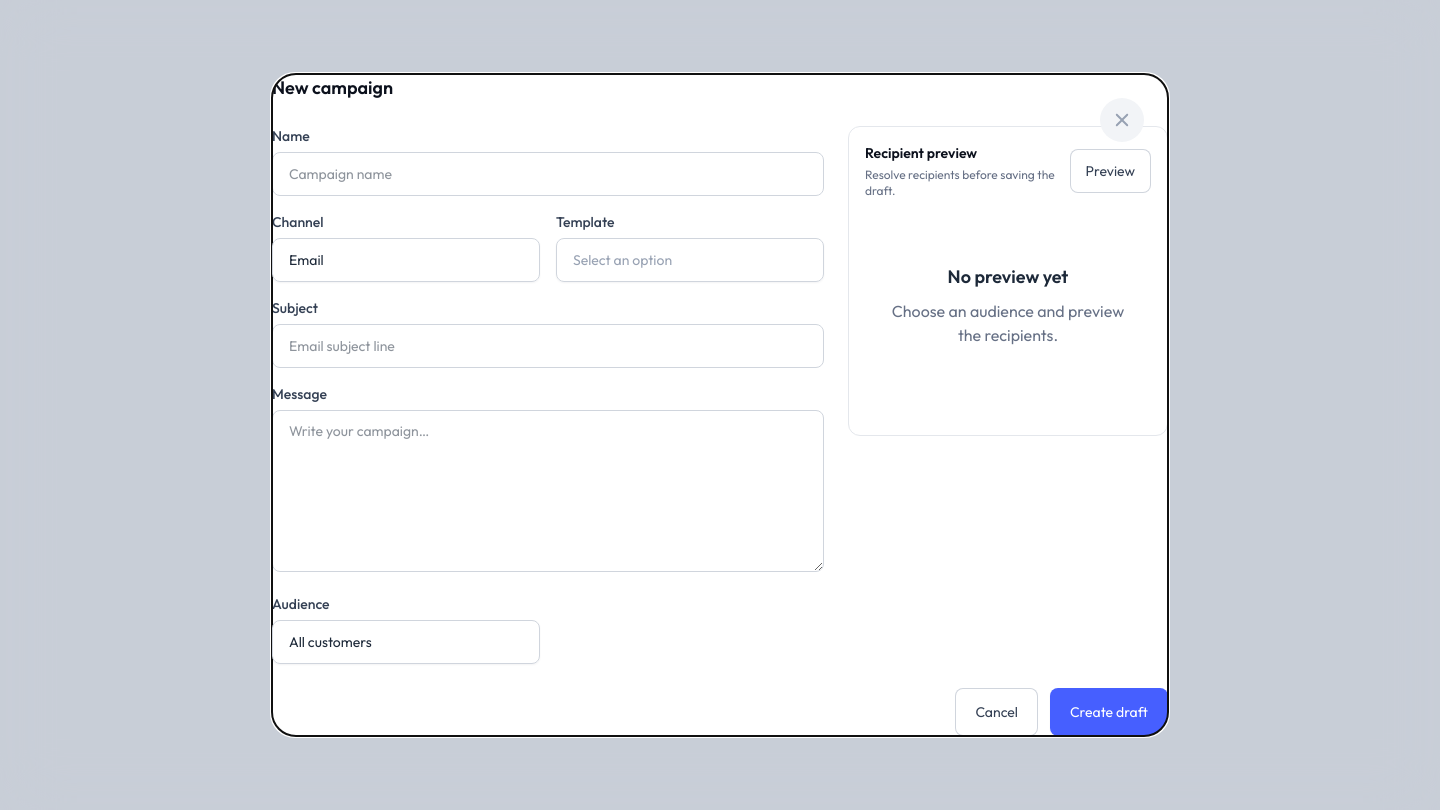
Test: CampaignEditorModal › selecting template fills subject and body
Select "Email template" in the dropdown labelled "Template" at (690, 260), box [556,238,824,282]
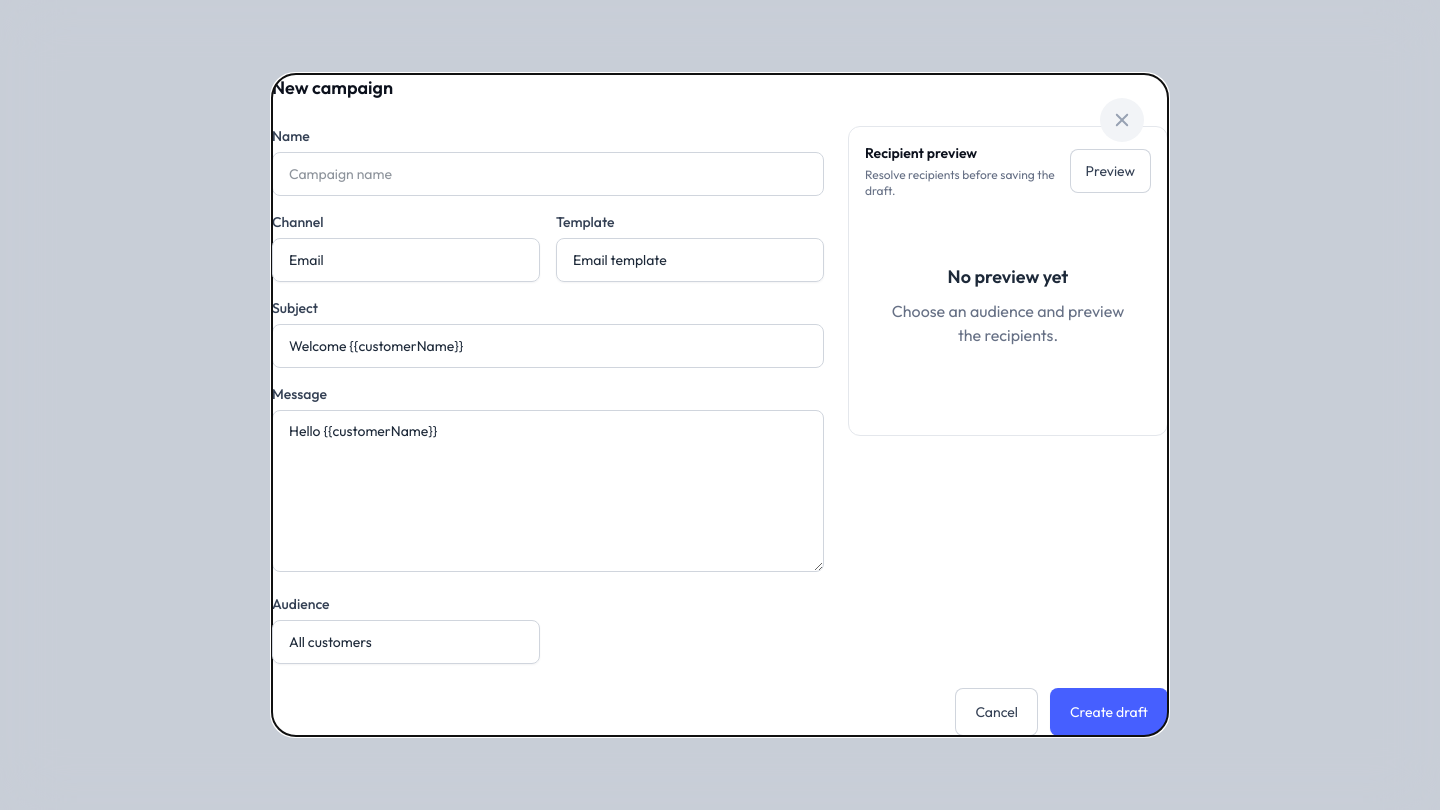
Expected: the field labelled "Subject" holds "Welcome {{customerName}}", [272,324,824,368]
Expected: the text box labelled "Message" holds "Hello {{customerName}}", [272,410,824,572]
